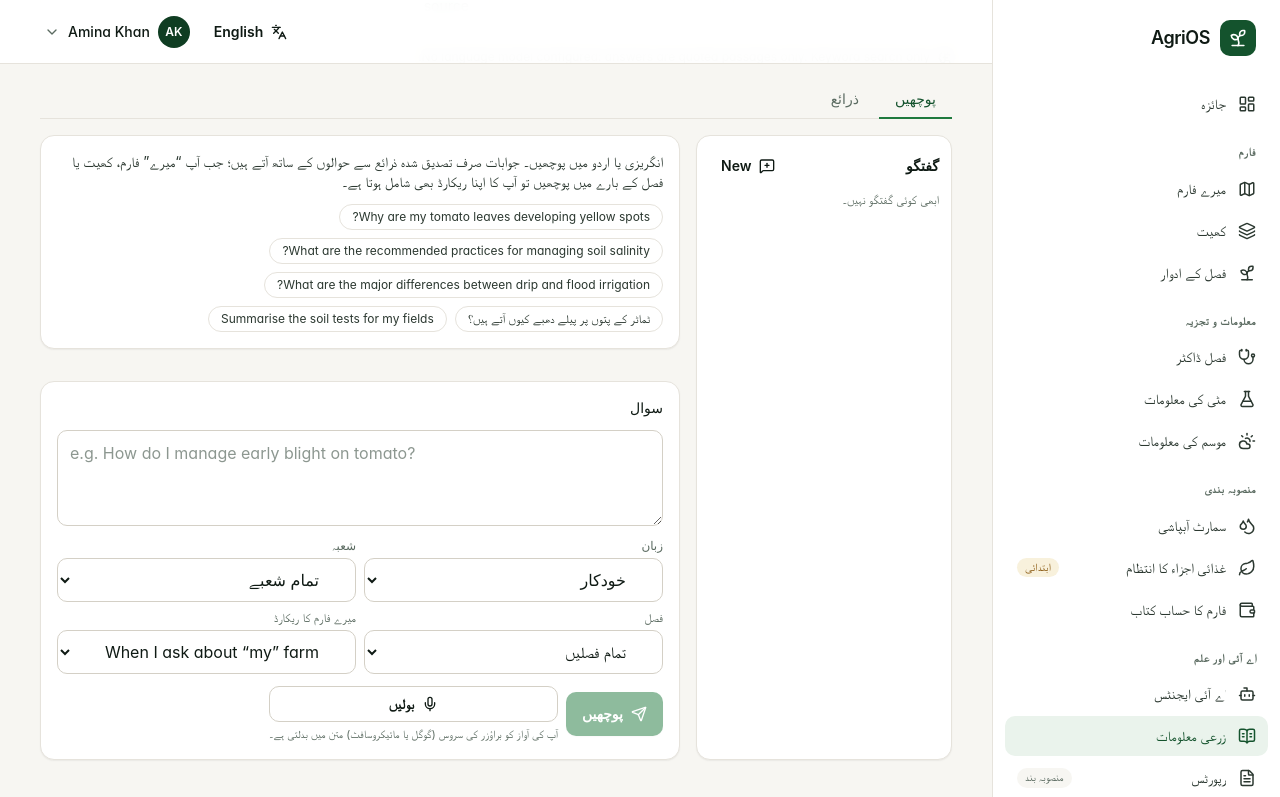
Test: Voice output › refuses to read Urdu with an English voice and says why
The image size is (1280, 797).
(page scrolled)
Type "zorblat water" into the text box labelled "سوال".
click(360, 478); type("zorblat water")  # box [57, 430, 663, 526]
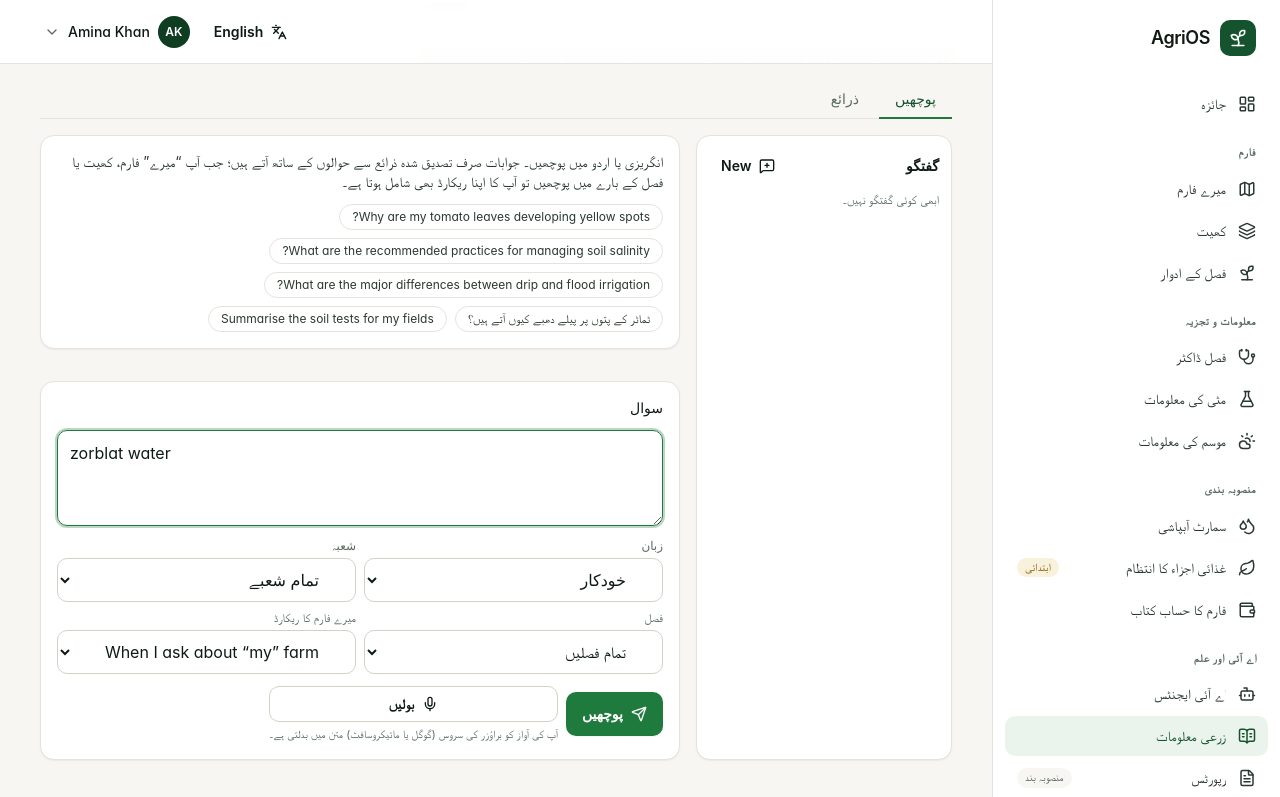
Click the button "پوچھیں".
click(614, 714)  # box [566, 692, 663, 736]
(page scrolled)
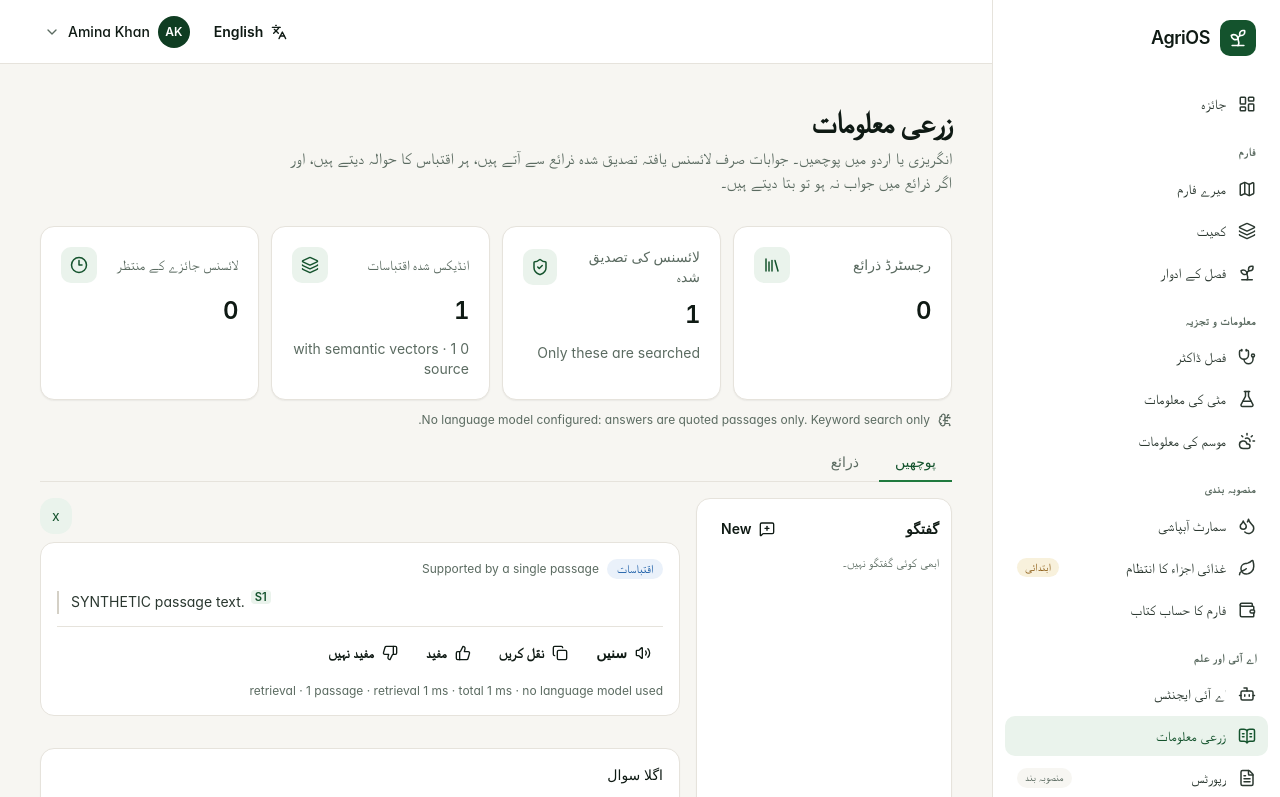
Expected: the text "SYNTHETIC passage text." is shown, [71, 593, 249, 610]
Click the button "سنیں".
click(624, 653)  # box [584, 635, 663, 671]
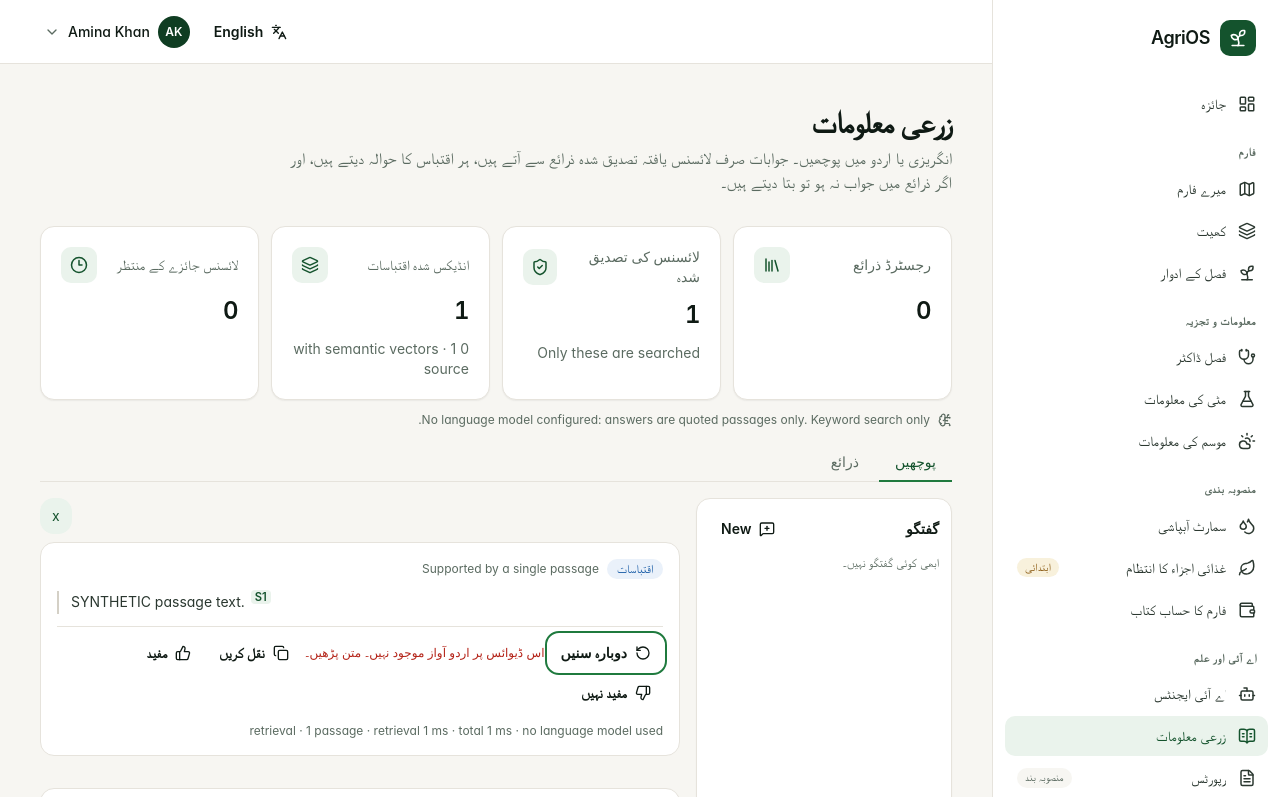
Expected: the message shows "اردو آواز موجود نہیں", [305, 645, 545, 660]
